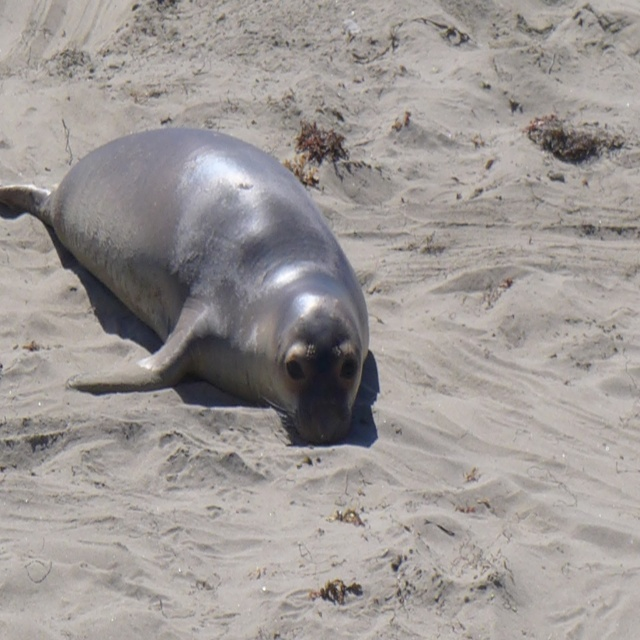Harbor seal: (0, 129, 368, 441)
